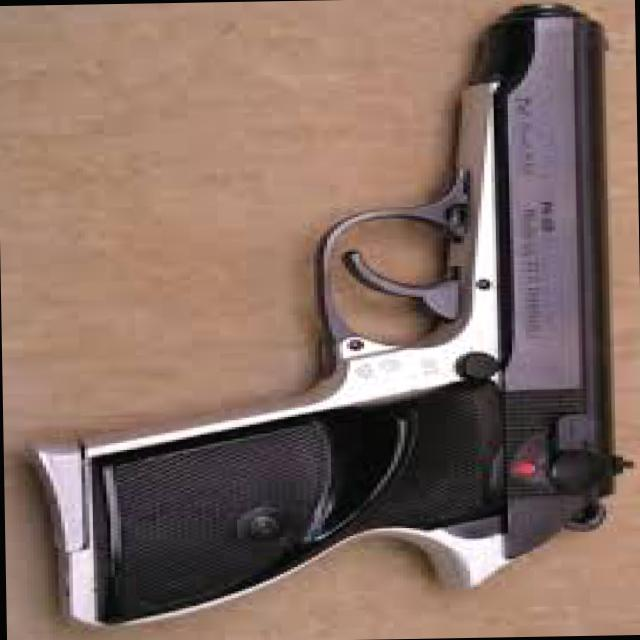handgun: (33, 2, 635, 631)
